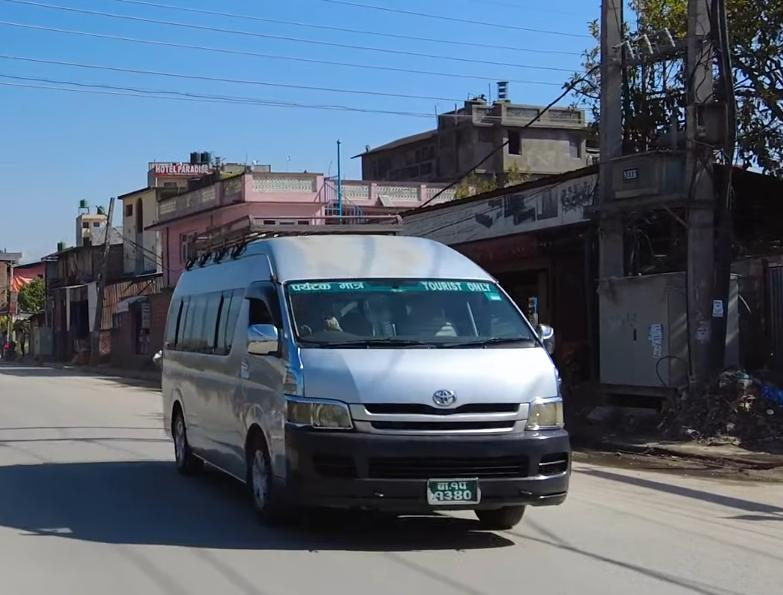micro_bus: (154, 223, 575, 541)
